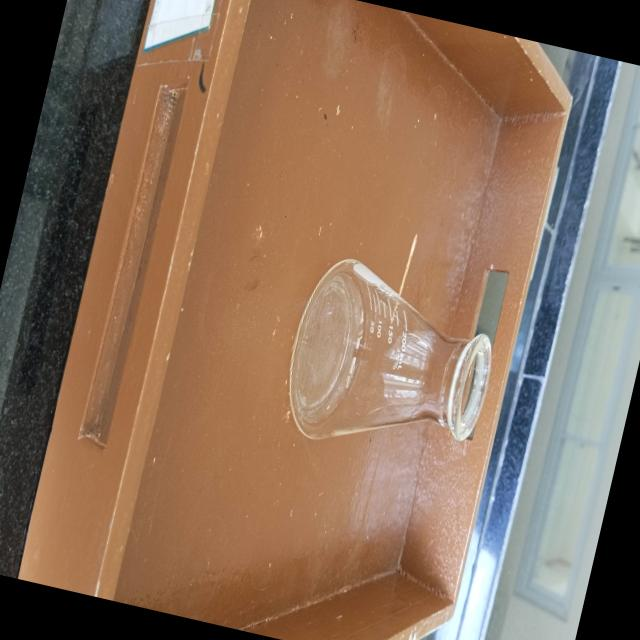erlenmeyer_flask: (260, 236, 517, 493)
